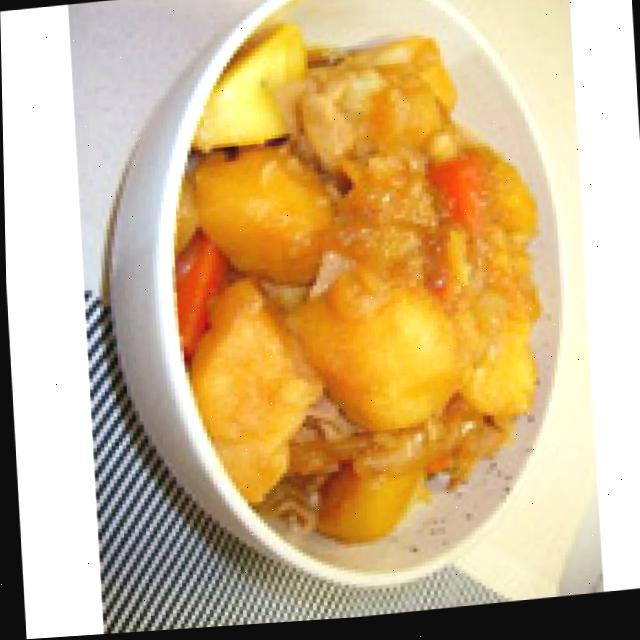牛肉菜式: (151, 0, 591, 619)
